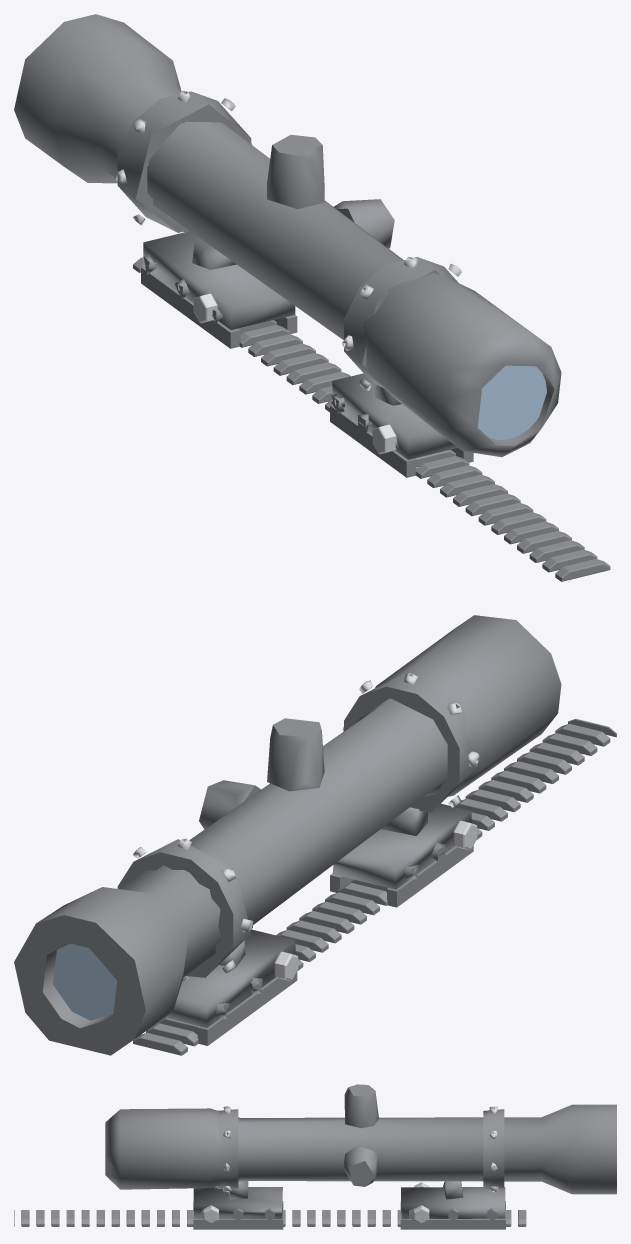
Rendered from scope.gltf.
3 renders of one model, top to bottom at view 1: azimuth 30°, elevation 25°; view 2: azimuth 150°, elevation 25°; view 3: azimuth 270°, elevation 25°, orthographic. The views are drawn at different scales.
Parts seen in each view (by area): view 1: scope_alloyDark, scope_glass, scope_steelBright; view 2: scope_alloyDark, scope_glass, scope_steelBright; view 3: scope_alloyDark, scope_steelBright.
Part boxes in pixels (x1,y1,x2,y2): scope_alloyDark: (14,14,610,581); scope_glass: (477,365,546,439); scope_steelBright: (116,91,461,454); scope_alloyDark: (14,615,616,1055); scope_glass: (53,943,117,1020); scope_steelBright: (133,673,479,981); scope_alloyDark: (14,1084,616,1229); scope_steelBright: (203,1106,498,1223).
Size of the model in its own units: 0.069 by 0.095 by 0.4006.
